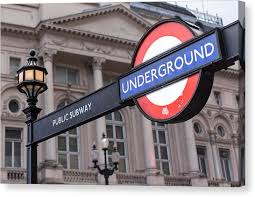London Underground: (119, 21, 219, 124)
